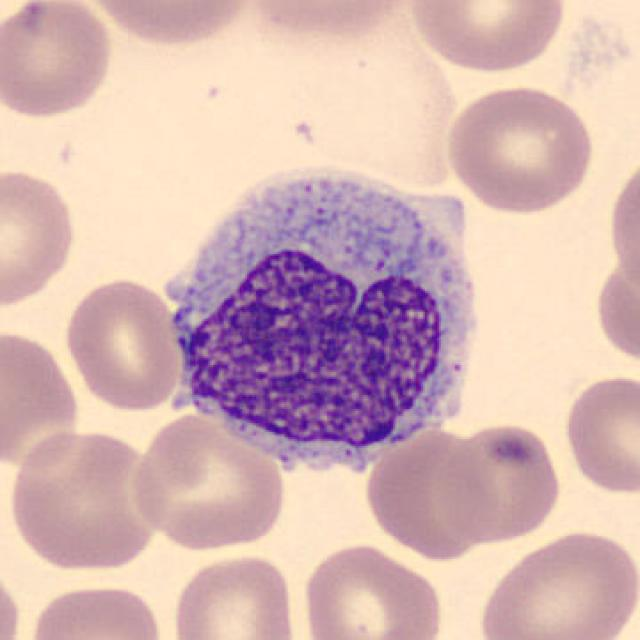Monocyte: (153, 152, 492, 484)
RBC: (272, 3, 464, 187), (6, 425, 166, 575), (126, 409, 288, 554), (441, 81, 597, 217), (473, 525, 640, 640), (362, 423, 500, 561), (60, 274, 186, 414), (432, 419, 565, 546), (298, 539, 446, 640), (0, 0, 117, 121), (0, 322, 84, 480), (405, 0, 571, 76), (167, 550, 301, 640), (0, 164, 80, 310), (560, 370, 638, 497), (78, 0, 259, 49), (25, 578, 167, 640), (243, 0, 418, 46), (604, 150, 640, 308), (592, 250, 638, 368), (0, 559, 25, 640)
